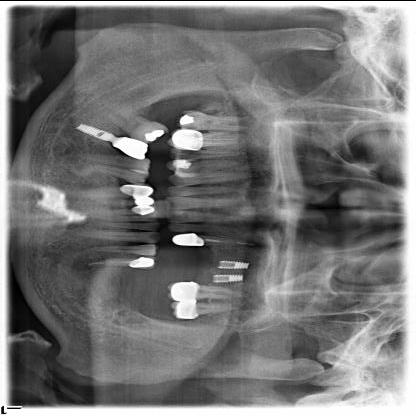Bicon: (212, 256, 254, 272), (211, 270, 251, 286)
